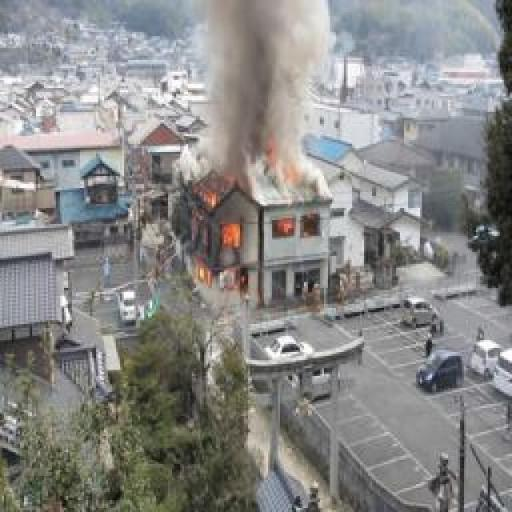smoke: (183, 194, 250, 288), (273, 222, 297, 239)
